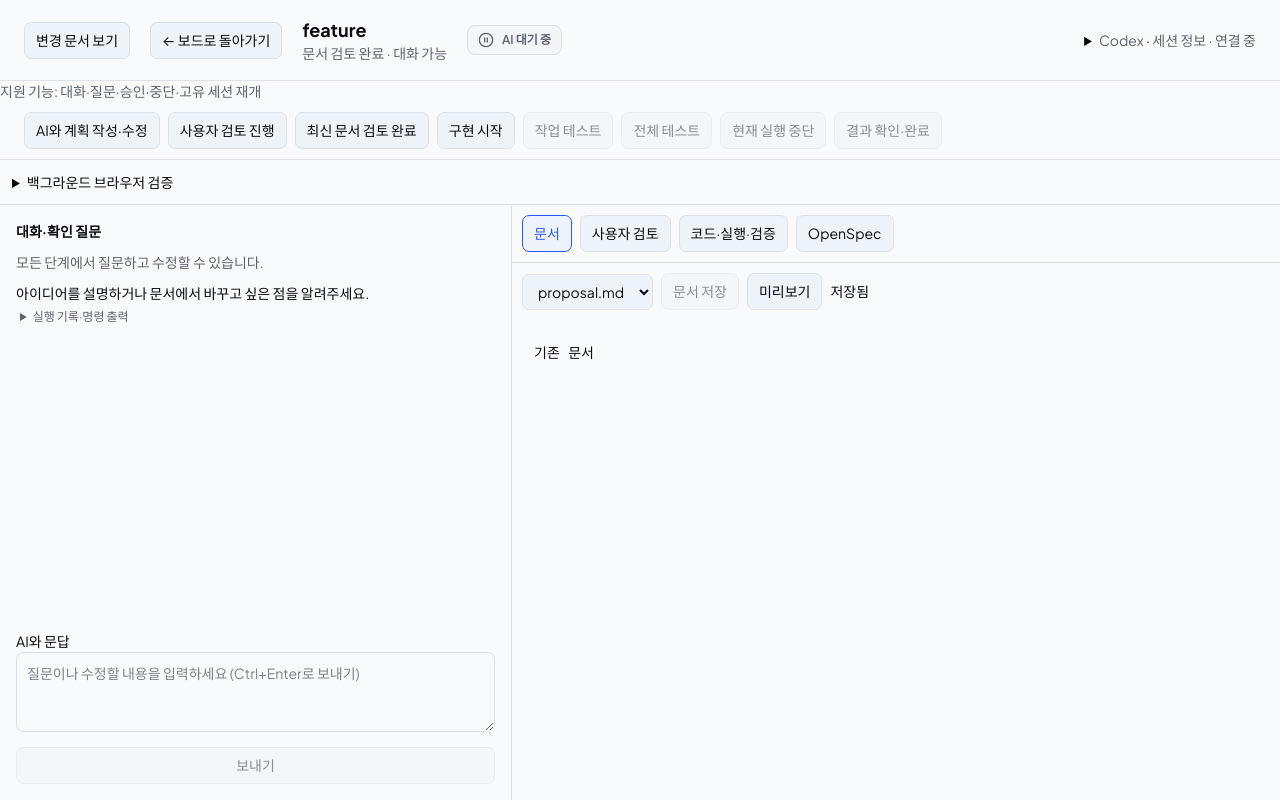
Test case: 미저장 초안의 cancel 선택을 보호하고 원문 위치를 선택한다
This screenshot has width=1280, height=800.
Replace the text in the text box named "문서 내용" with "미저장 초안" at (896, 560), box [512,320,1279,799]
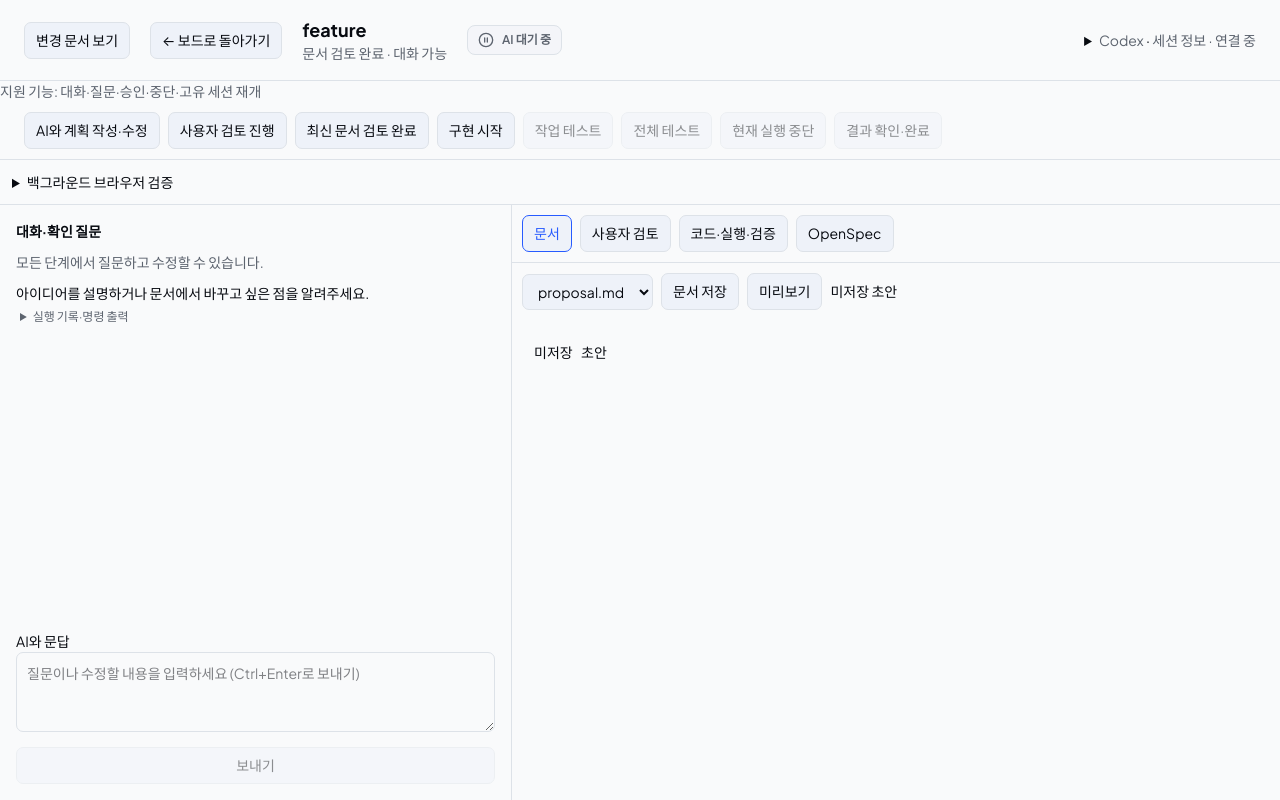
Click the button "사용자 검토" at (625, 234), box [580,215,671,252]
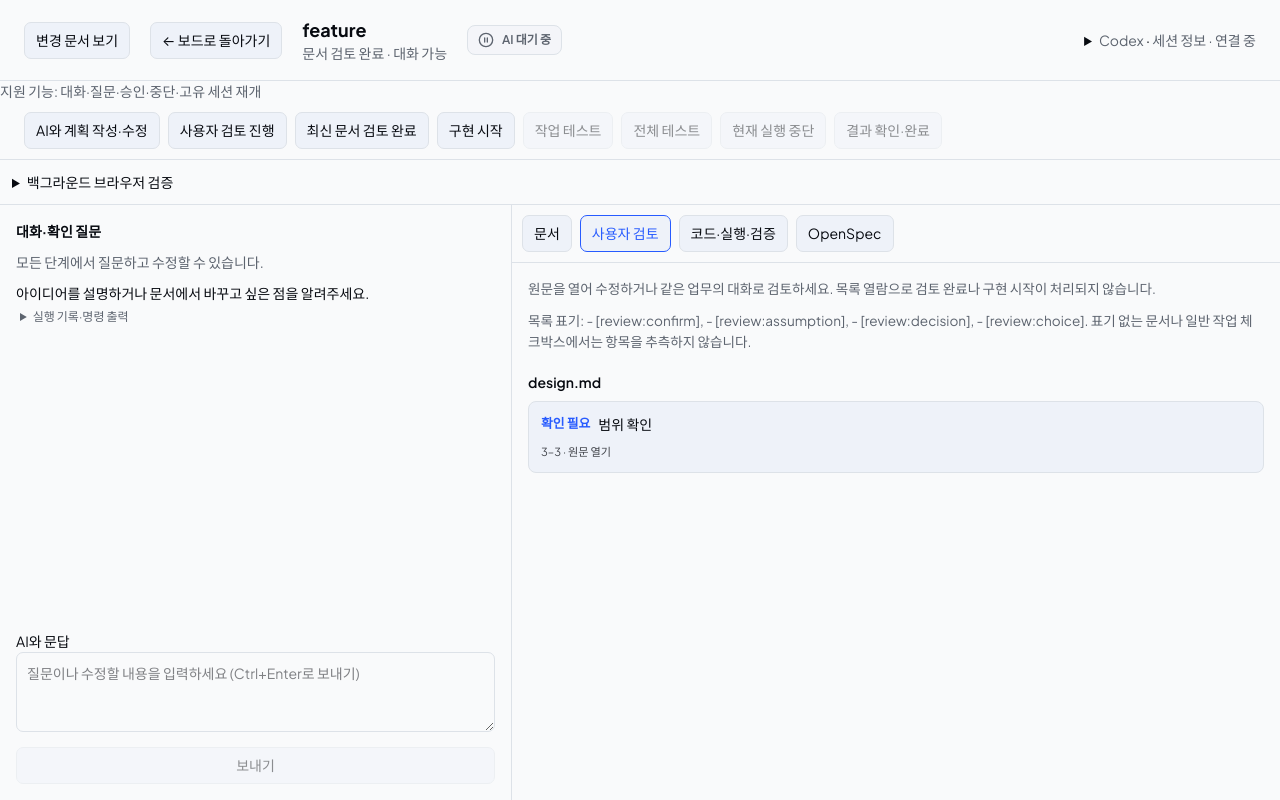
Click the button "확인 필요 범위 확인 3–3 · 원문 열기" at (566, 423), box [528,401,1264,473]
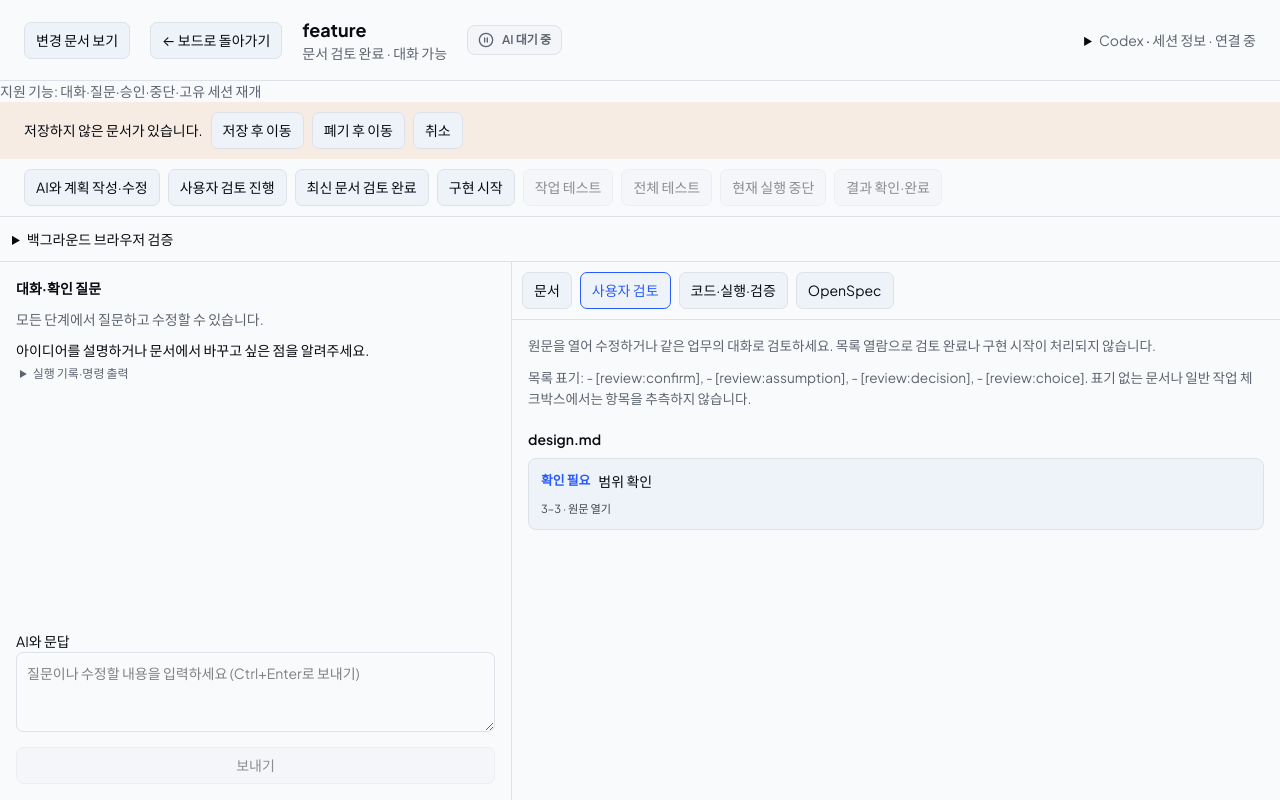
Click the button "취소" at (438, 130), box [413,112,463,149]
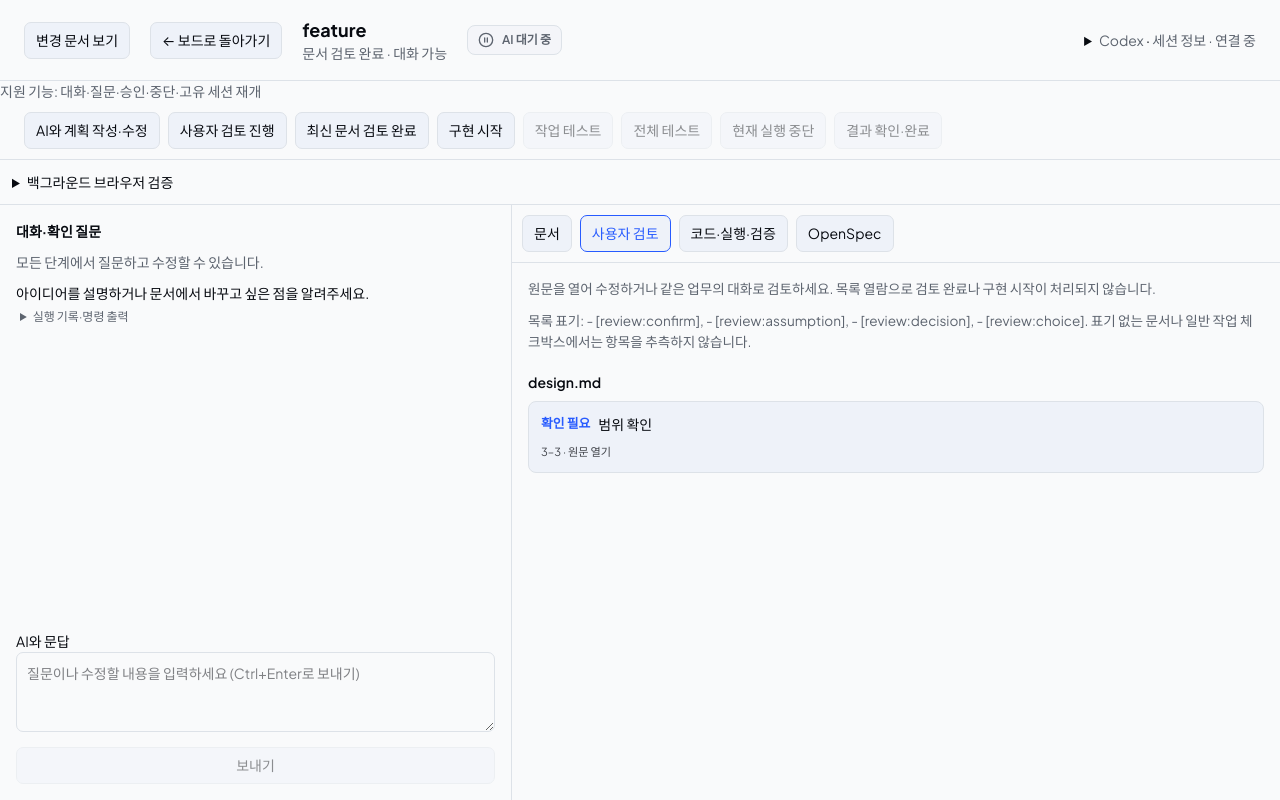
Click the button "문서" at (547, 234), box [522,215,572,252]
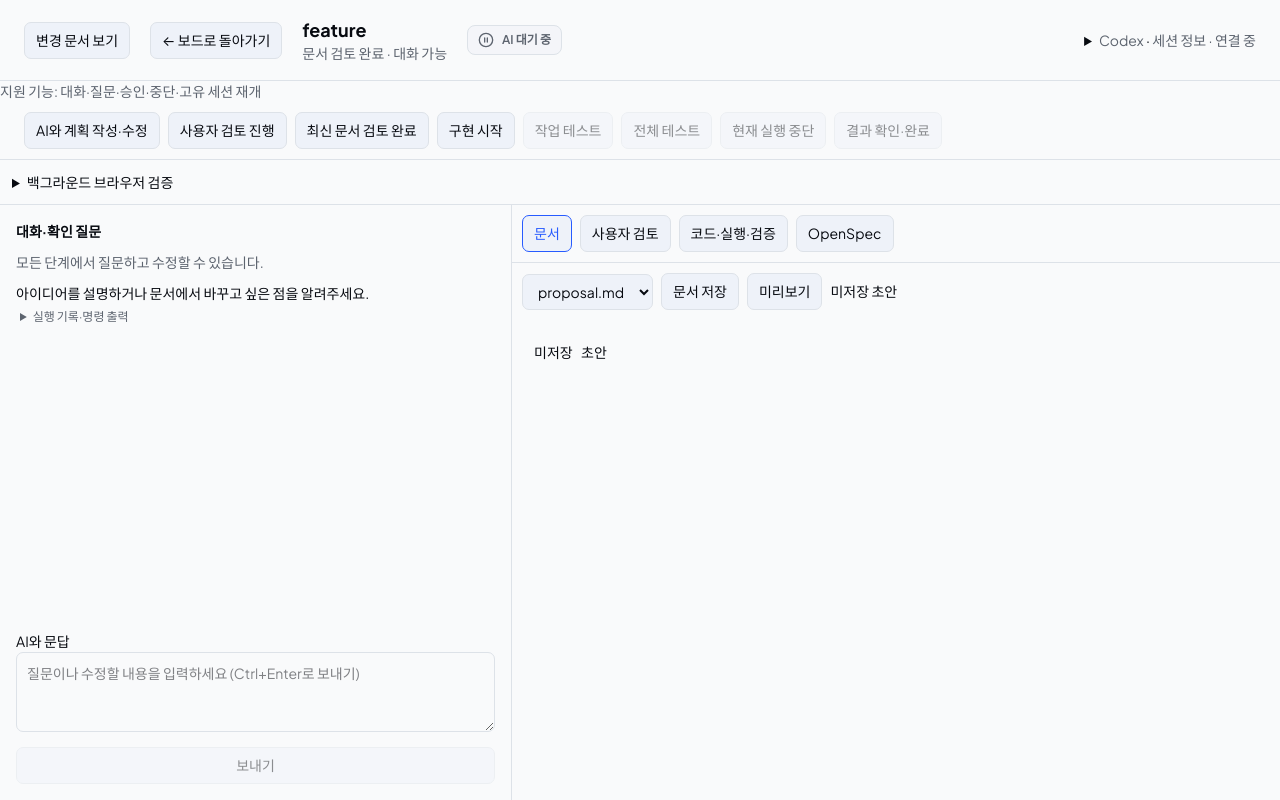
expect the text box named "문서 내용" holds "미저장 초안": met, box [512,320,1279,799]
